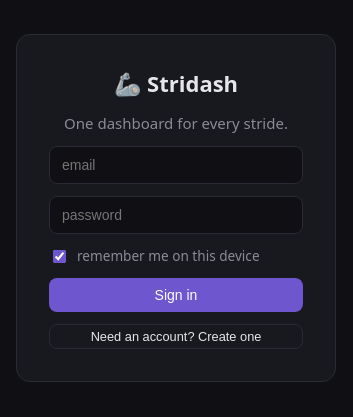
Test: App auth flow › shows a login failure and stays on the form
Type "alice@example.com" into the field with placeholder "email".
click(176, 165); type("alice@example.com")  # box top-left (49, 146), bottom-right (303, 184)
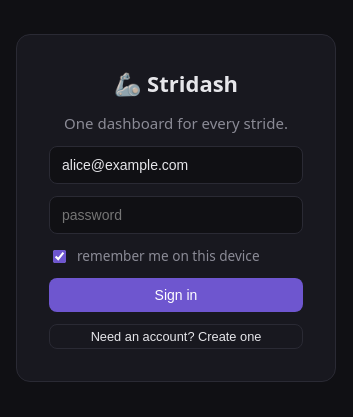
Type "wrong" into the password field with placeholder "password".
click(176, 215); type("wrong")  # box top-left (49, 196), bottom-right (303, 234)
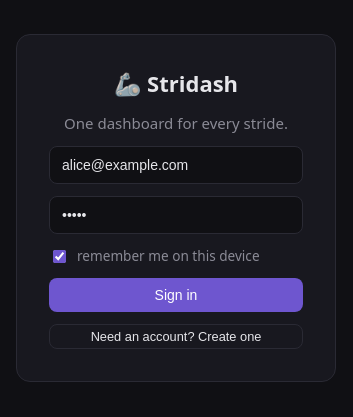
Click the button "Sign in".
click(176, 295)  # box top-left (49, 278), bottom-right (303, 312)
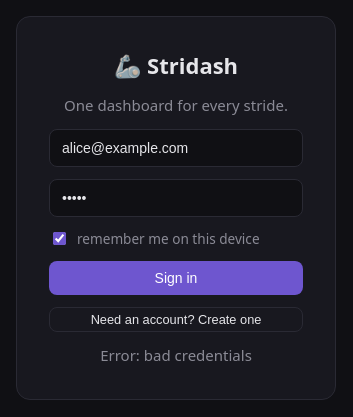
expect the button "Sign in" is shown: met, box top-left (49, 261), bottom-right (303, 295)
expect the text "Error: bad credentials" is shown: met, box top-left (100, 345), bottom-right (252, 365)
